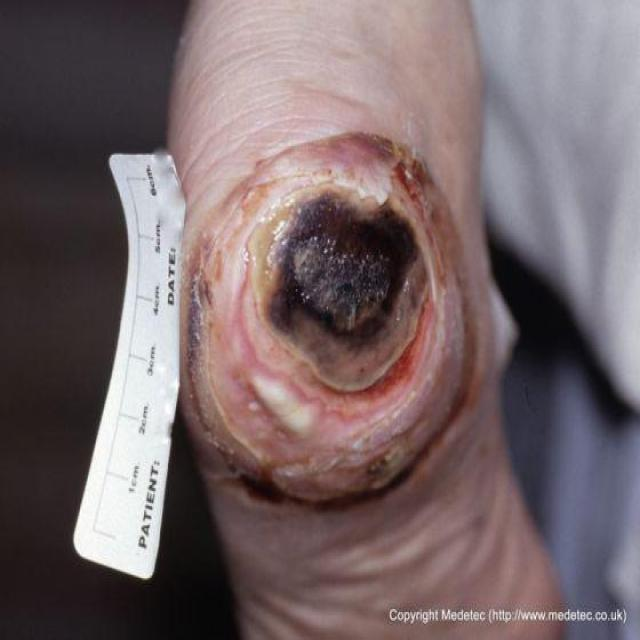Unstageable: (247, 198, 429, 395)
